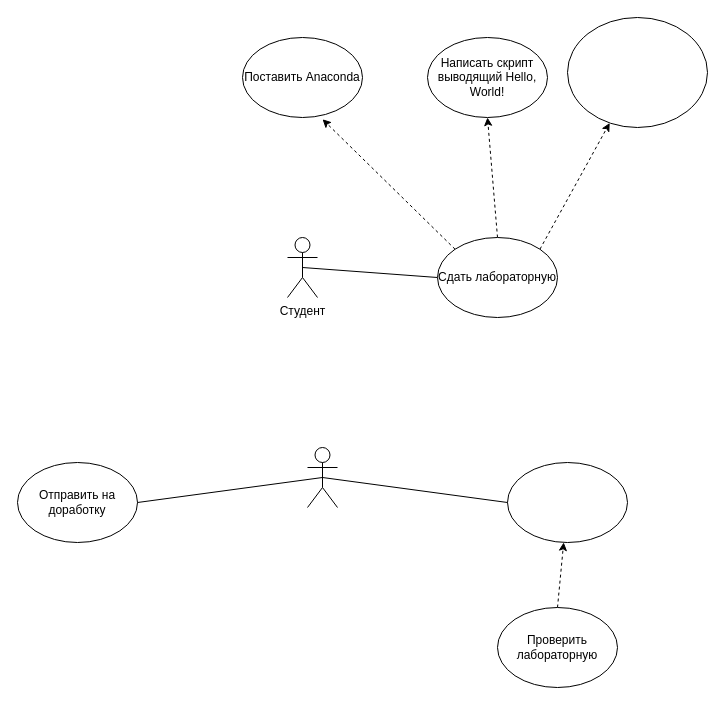
The diagram is 725 pixels wide and 705 high, and some of its shapes have lost their labels. Here are the shapes that lost their labels. From the top down, the centre of each, then its label:
the point at 637,72: Зарегистрироваться на "Островах"
the point at 322,477: Алексей Михайлович
the point at 567,502: Поставить баллы
